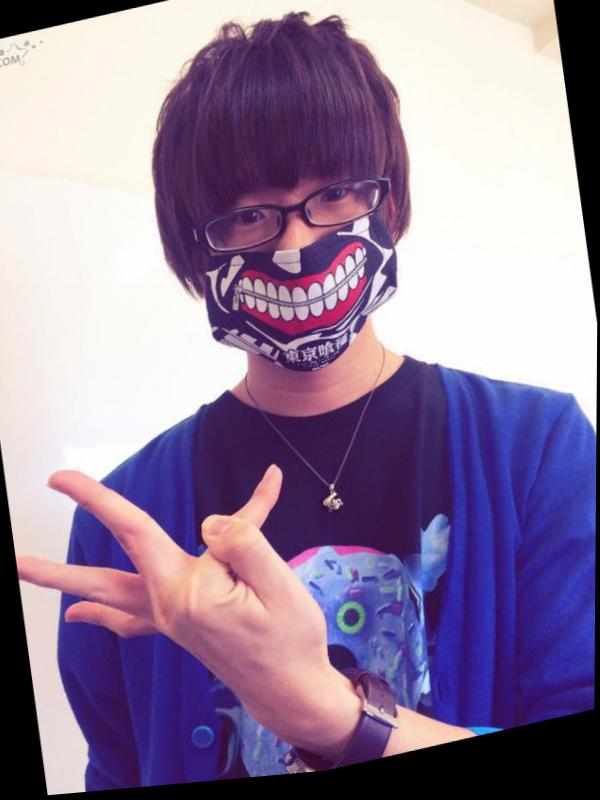WRONG: (190, 154, 402, 380)
